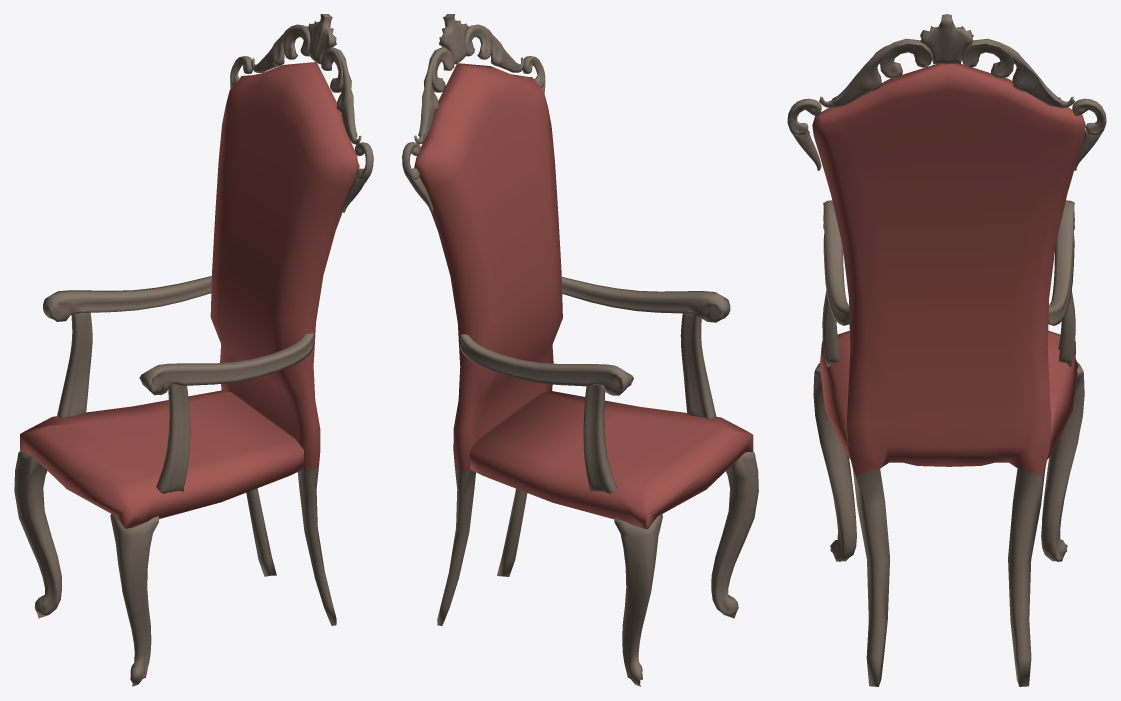
The model's file is Chair01.fbx.
The picture shows the model from 3 angles, left to right: view 1: azimuth 30°, elevation 25°; view 2: azimuth 150°, elevation 25°; view 3: azimuth 270°, elevation 25°; orthographic projection. The views are drawn at different scales.
Visible parts, largest first — view 1: Retopo_corona_01.002; view 2: Retopo_corona_01.002; view 3: Retopo_corona_01.002.
Part boxes in pixels (x1,y1,x2,y2): Retopo_corona_01.002: (14, 14, 373, 686); Retopo_corona_01.002: (402, 14, 758, 686); Retopo_corona_01.002: (787, 14, 1106, 686).
Size of the model in its own units: 92.69 by 196 by 82.91.
